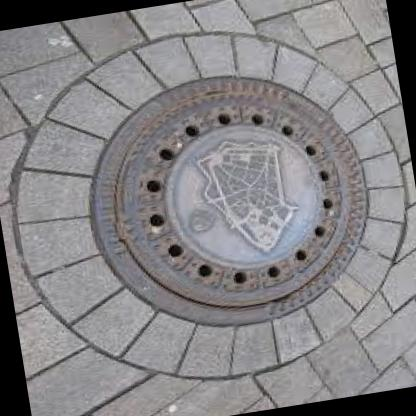manholes: (64, 51, 383, 358)
